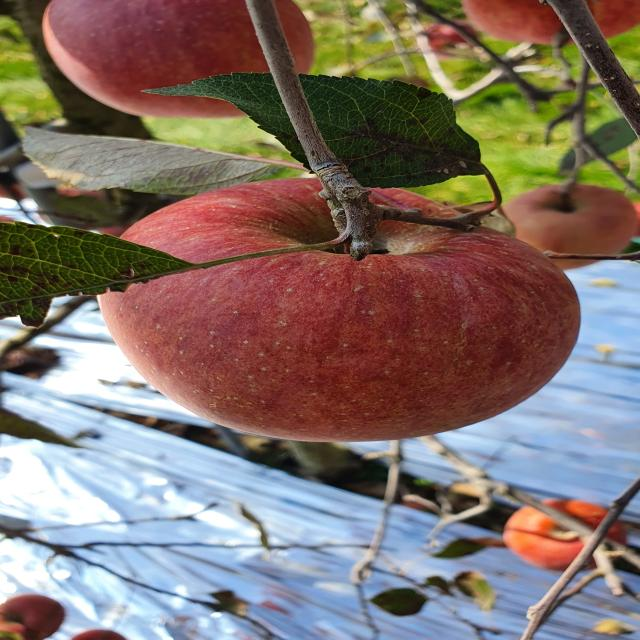fresh: (92, 175, 593, 447)
